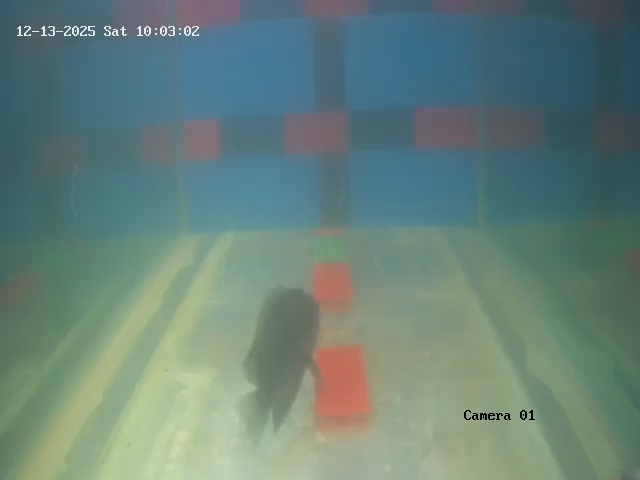fish: (238, 287, 323, 413)
